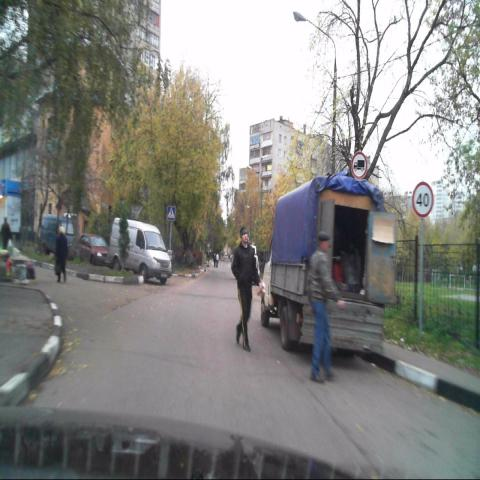3_24: (412, 182, 432, 217)
3_4_1: (351, 152, 367, 180)
5_19_1: (166, 205, 176, 221)
